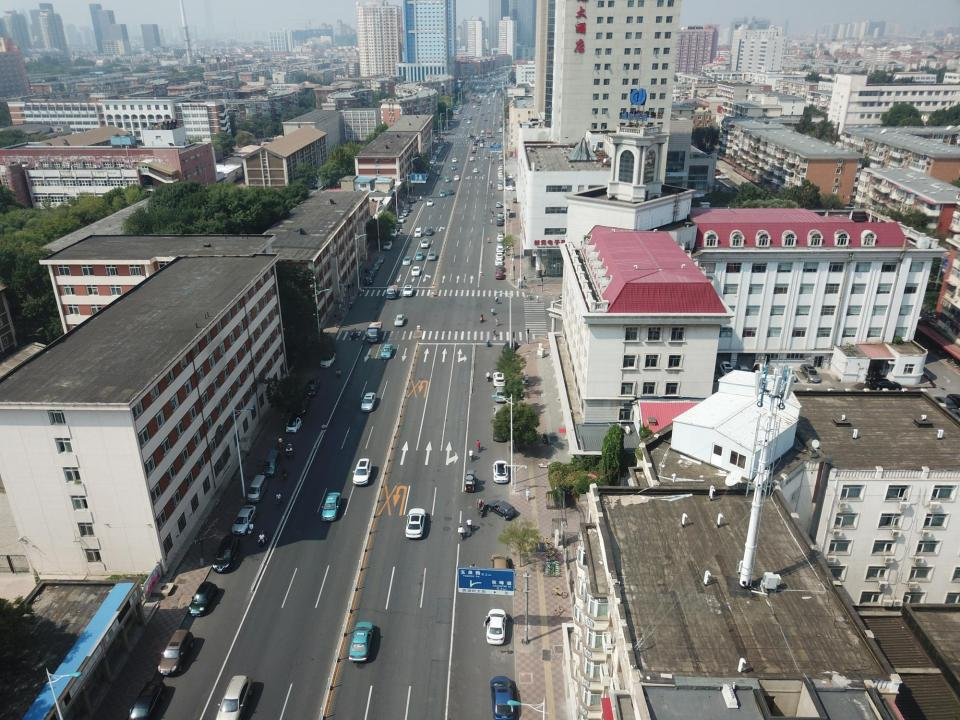bus: (486, 129, 492, 137)
car: (158, 629, 194, 675), (214, 675, 251, 718), (128, 680, 165, 718), (489, 675, 517, 719), (212, 532, 240, 572), (347, 621, 374, 661), (188, 581, 218, 616), (482, 608, 509, 646), (231, 505, 256, 535), (486, 499, 516, 520), (320, 493, 343, 520), (406, 507, 426, 538), (351, 458, 372, 484), (262, 449, 282, 476), (867, 378, 901, 393), (930, 397, 956, 414), (799, 364, 822, 383), (292, 394, 310, 415), (492, 461, 508, 483), (778, 365, 797, 382), (719, 361, 736, 379), (304, 378, 320, 396), (361, 392, 376, 411), (706, 361, 720, 381), (319, 352, 336, 368), (736, 364, 752, 381), (492, 405, 507, 423), (286, 417, 302, 433), (494, 423, 508, 441), (945, 393, 960, 409), (501, 340, 518, 353), (492, 372, 507, 386), (380, 344, 393, 358), (494, 388, 507, 402), (402, 285, 414, 296), (394, 314, 404, 326), (411, 266, 421, 276), (402, 256, 412, 266), (382, 242, 393, 250), (368, 268, 377, 277), (414, 227, 422, 237), (375, 255, 385, 263), (427, 252, 436, 260), (421, 239, 429, 248), (494, 258, 503, 266), (364, 276, 373, 284), (372, 262, 381, 270), (389, 229, 397, 238), (495, 271, 503, 279), (392, 224, 401, 231), (416, 252, 423, 260), (426, 228, 433, 236), (496, 265, 504, 272), (495, 253, 503, 260), (496, 235, 504, 242), (398, 216, 406, 223), (496, 246, 504, 252), (400, 210, 408, 216), (408, 197, 416, 203), (427, 199, 433, 206), (496, 230, 503, 236), (496, 220, 503, 226), (496, 241, 504, 246), (440, 190, 446, 196), (448, 189, 454, 195), (496, 201, 502, 207), (496, 216, 503, 221), (454, 175, 459, 181), (450, 165, 456, 170), (469, 156, 474, 162), (497, 212, 504, 216), (445, 177, 450, 182), (473, 168, 478, 173), (471, 149, 476, 154), (452, 158, 457, 162), (472, 145, 476, 150), (473, 142, 478, 146), (480, 138, 485, 142), (468, 133, 472, 138), (480, 133, 484, 137), (480, 130, 485, 133), (449, 121, 452, 125), (476, 137, 480, 140), (475, 139, 479, 142)
truck: (364, 321, 382, 342), (386, 285, 398, 299)
van: (247, 475, 266, 502), (403, 205, 410, 213), (512, 197, 517, 203), (480, 142, 484, 148), (470, 135, 476, 139)
